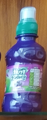blueberries: (3, 6, 46, 113)
